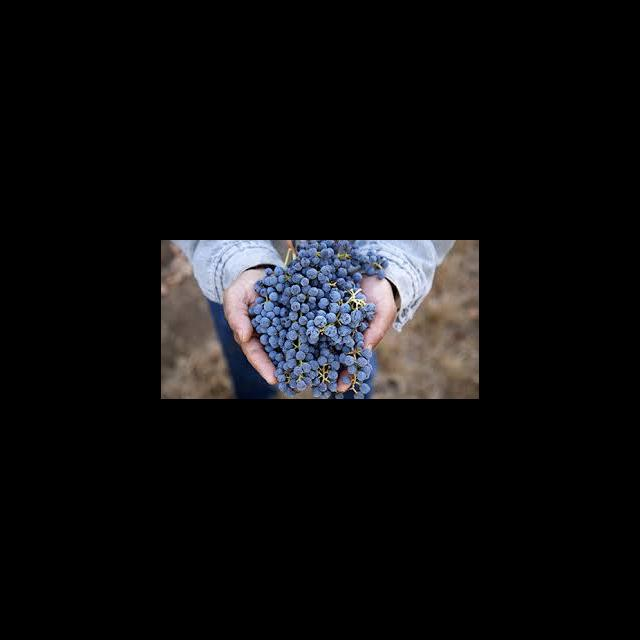grape: (248, 240, 388, 398)
